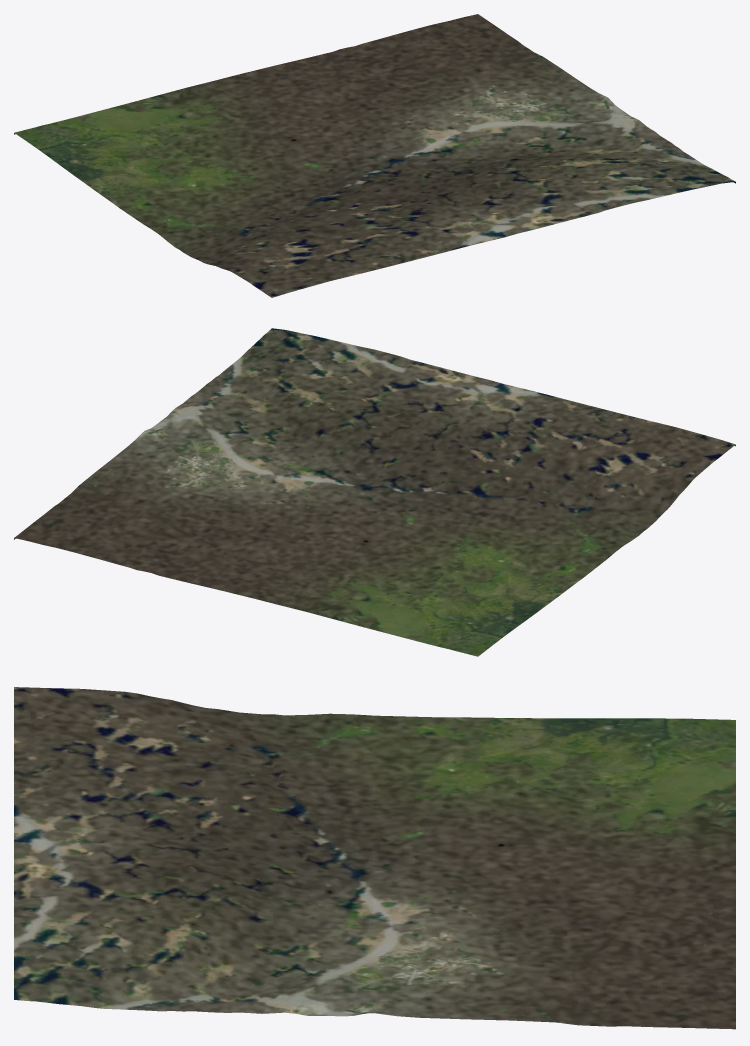
3 views of the same model, one above another, from view 1: azimuth 30°, elevation 25°; view 2: azimuth 150°, elevation 25°; view 3: azimuth 270°, elevation 25° (orthographic). The views are drawn at different scales.
Bounding box in the file's own units: 250 × 16.57 × 241.
1 material, 1 textured.
